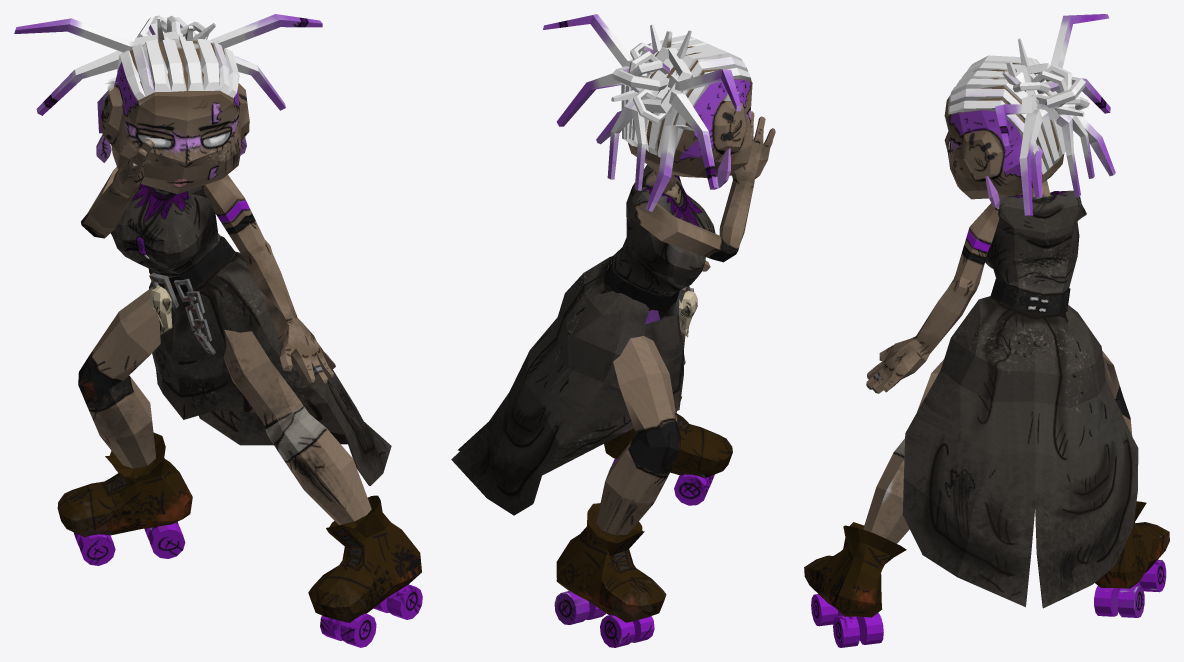
The model's file is bruja_000061.obj.
3 renders of one model, left to right at view 1: azimuth 30°, elevation 25°; view 2: azimuth 150°, elevation 25°; view 3: azimuth 270°, elevation 25°, orthographic. The views are drawn at different scales.
Parts seen in each view (by area): view 1: Bruja_Plane.001; view 2: Bruja_Plane.001; view 3: Bruja_Plane.001.
Part boxes in pixels (box(x1,y1,x2,y2)): Bruja_Plane.001: box(14, 14, 422, 647); Bruja_Plane.001: box(451, 14, 775, 647); Bruja_Plane.001: box(804, 14, 1169, 647).
Bounding box in the file's own units: 9.21 × 15.42 × 9.25.
